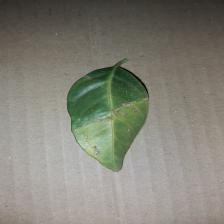greening: (90, 125, 121, 144)
